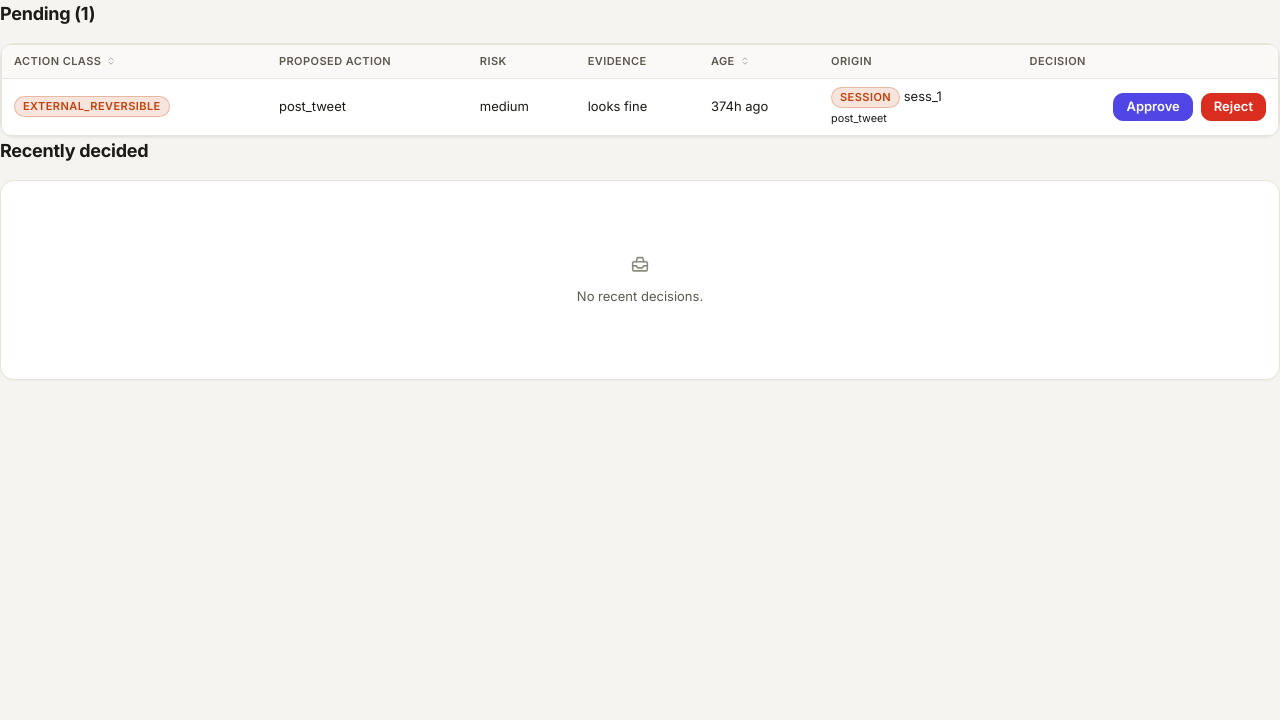
Test: ApprovalsTab — decision failure is surfaced, not swallowed › clears the inline error and closes on a successful decision
The image size is (1280, 720).
Click the button "Approve".
click(1153, 107)  # box [1113, 93, 1193, 121]
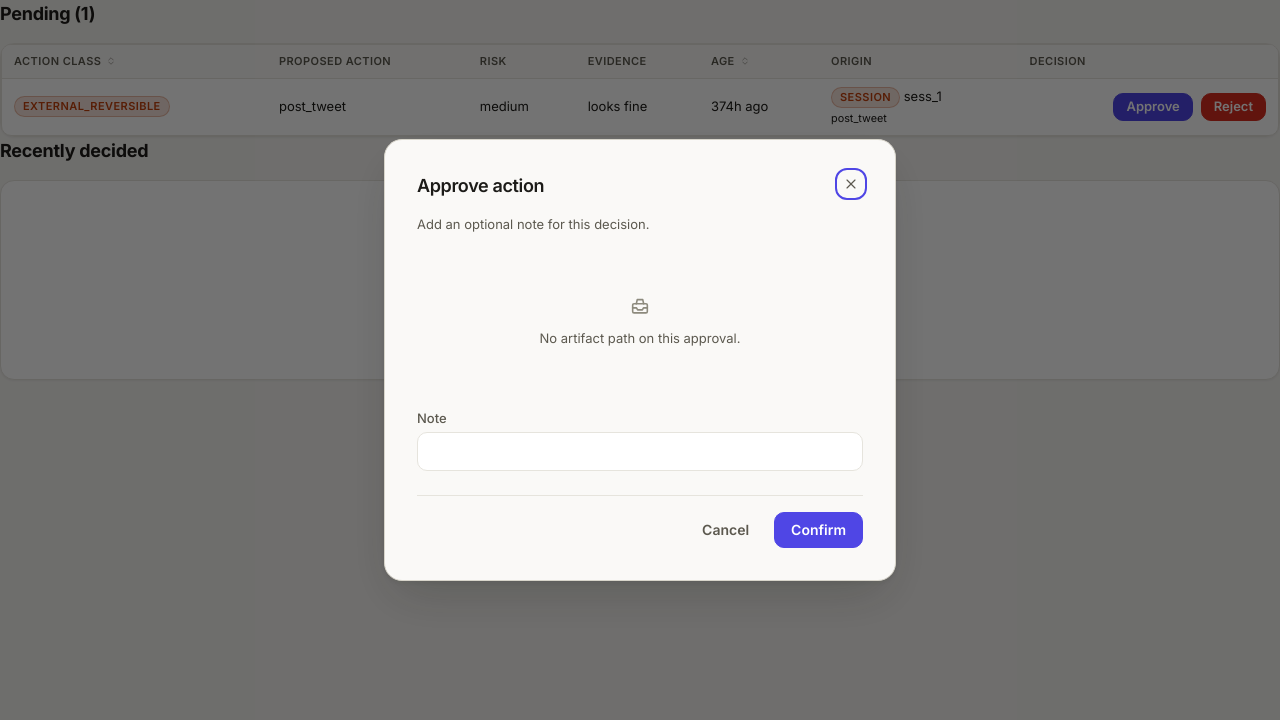
Click the button "Confirm".
click(819, 530)  # box [774, 512, 863, 548]
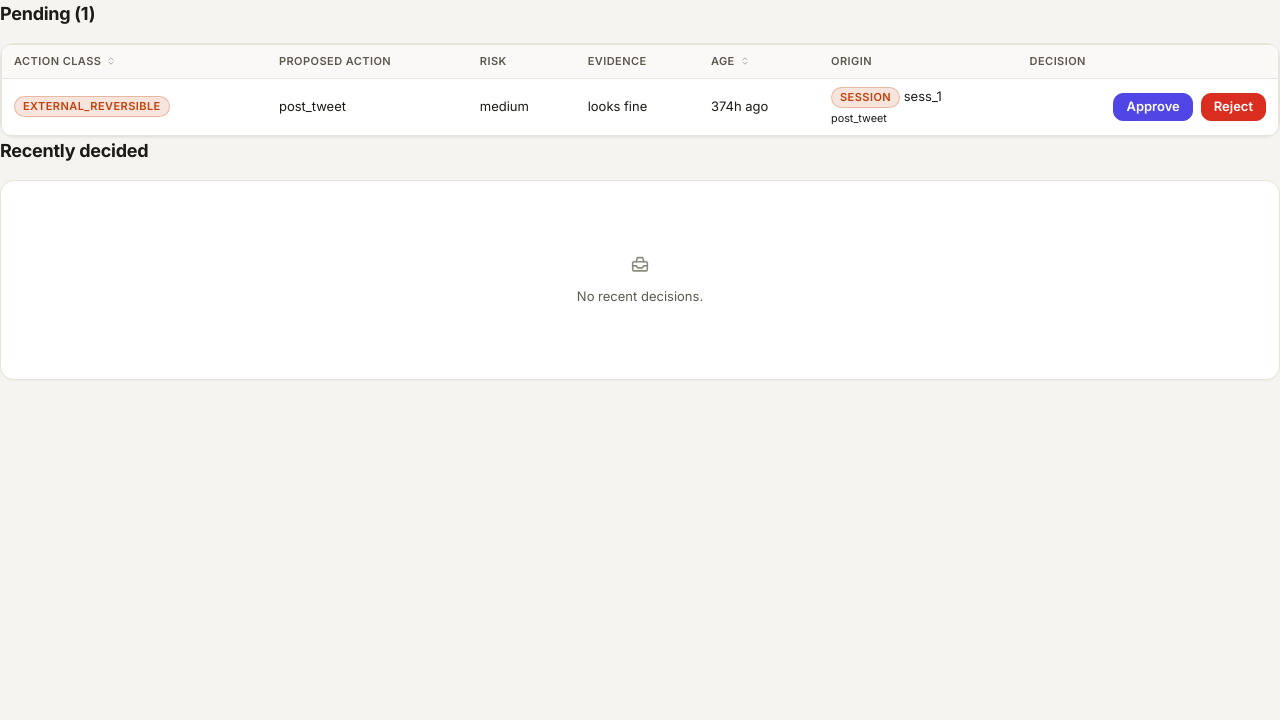
Result: the heading "Approve action" is gone
